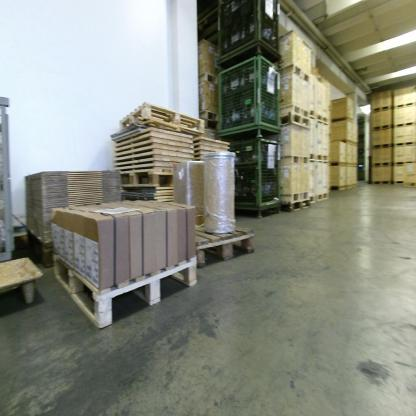pallet: (52, 248, 201, 334), (195, 223, 258, 274), (117, 102, 206, 135), (117, 166, 178, 191), (24, 230, 51, 274), (277, 107, 313, 131), (280, 195, 311, 217), (201, 116, 220, 130)
stillage: (213, 52, 286, 137), (217, 137, 284, 221), (214, 1, 281, 68), (1, 92, 20, 261)
